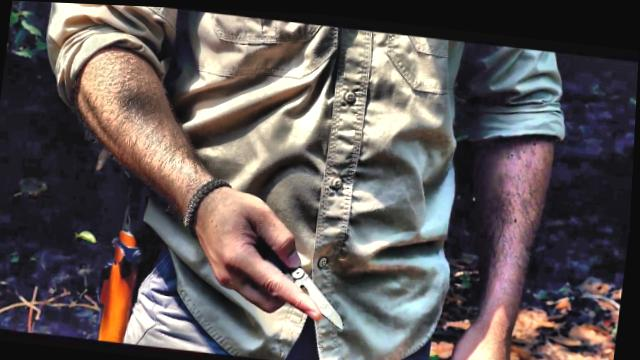knife: (201, 207, 362, 332)
